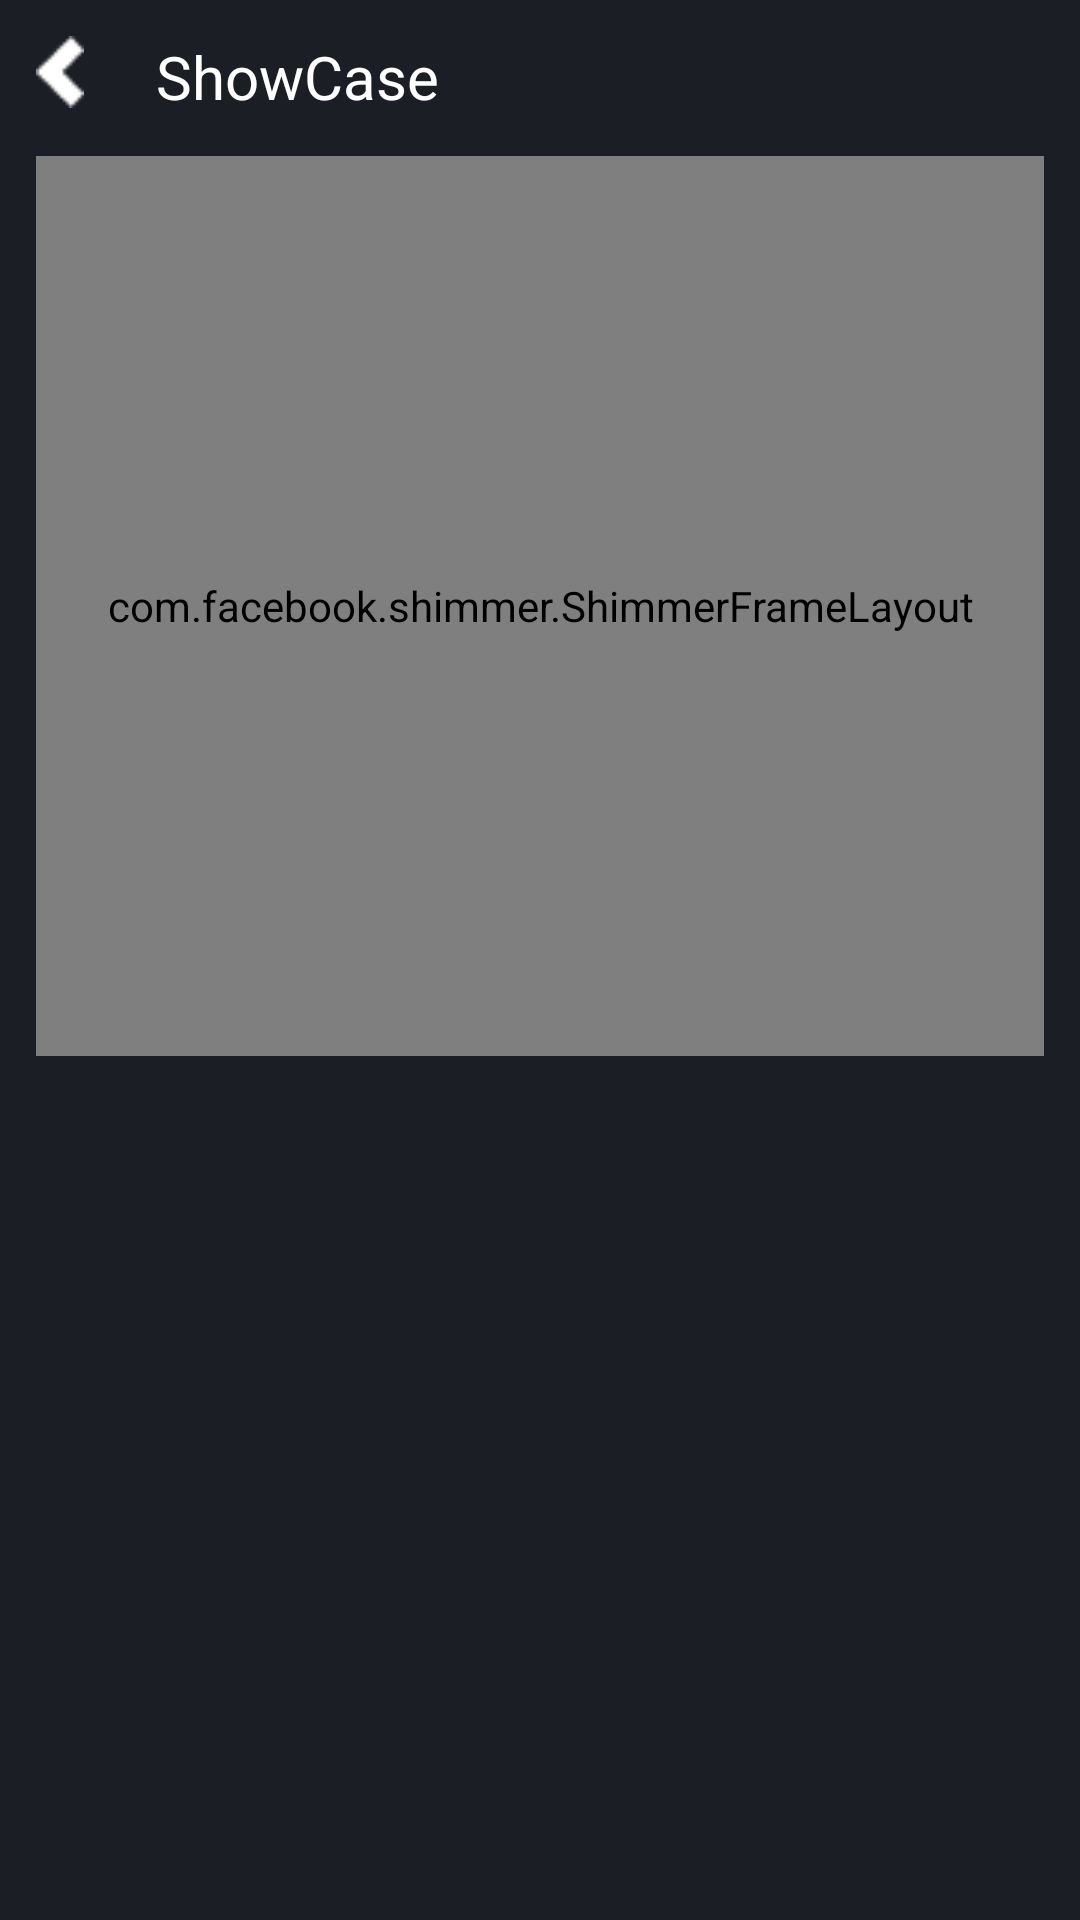

Icon bounding boxes for this 1080*1920 phone screenshot, format (x1, y1, x2, y2):
auth back: (36, 36, 84, 108)
